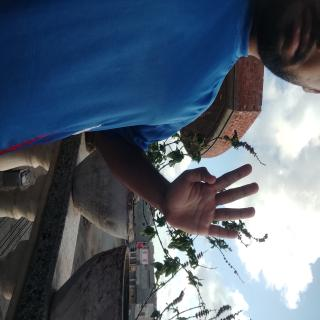SHEEN: (109, 79, 192, 235)
